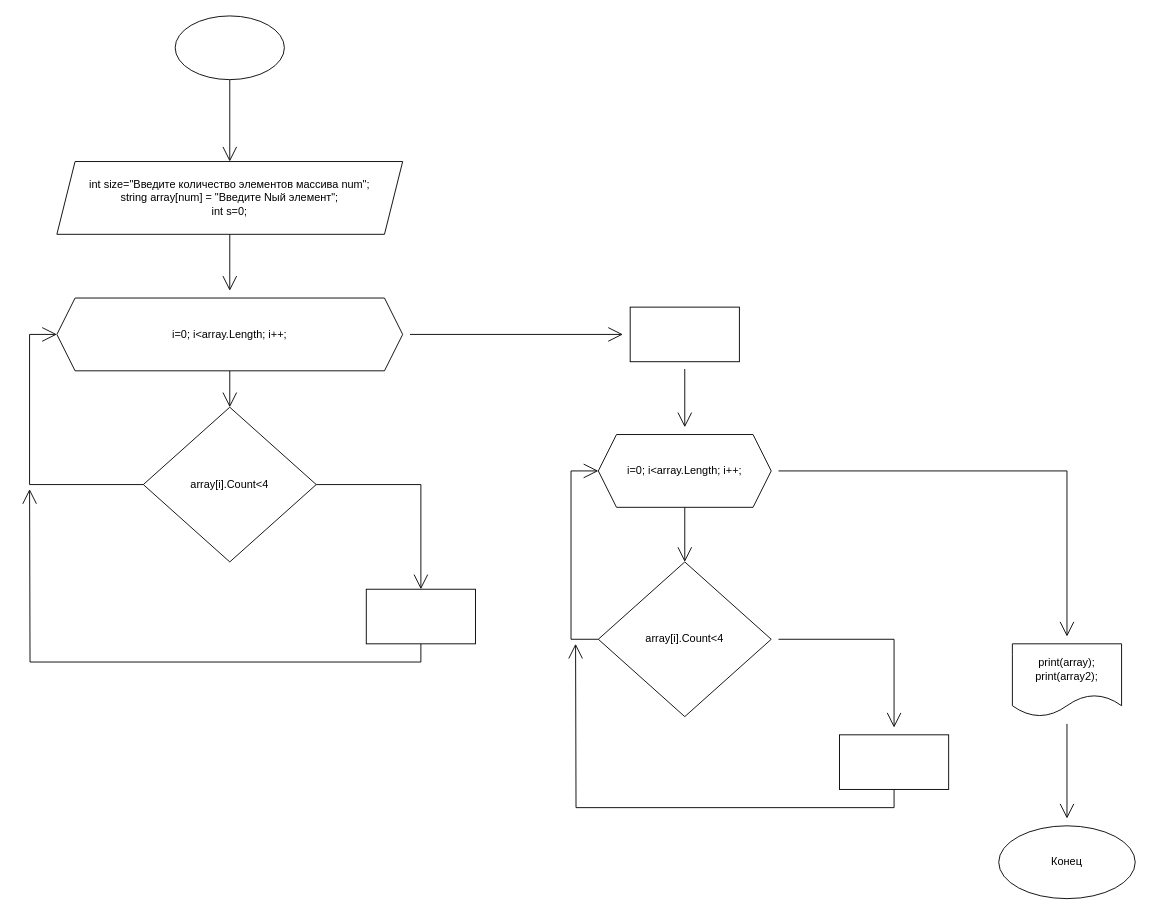
Image size: 1151x915. Some labels were removed from this diagram. The shapes that lost their labels are listed below. From the top down, each one's centre as x and y in pixels, then its label:
At (x=229, y=47): "Начало".
At (x=684, y=334): "string array2[s]; s=0;".
At (x=420, y=616): "s++;".
At (x=894, y=761): "array2[s]=array[i]; s++;".
